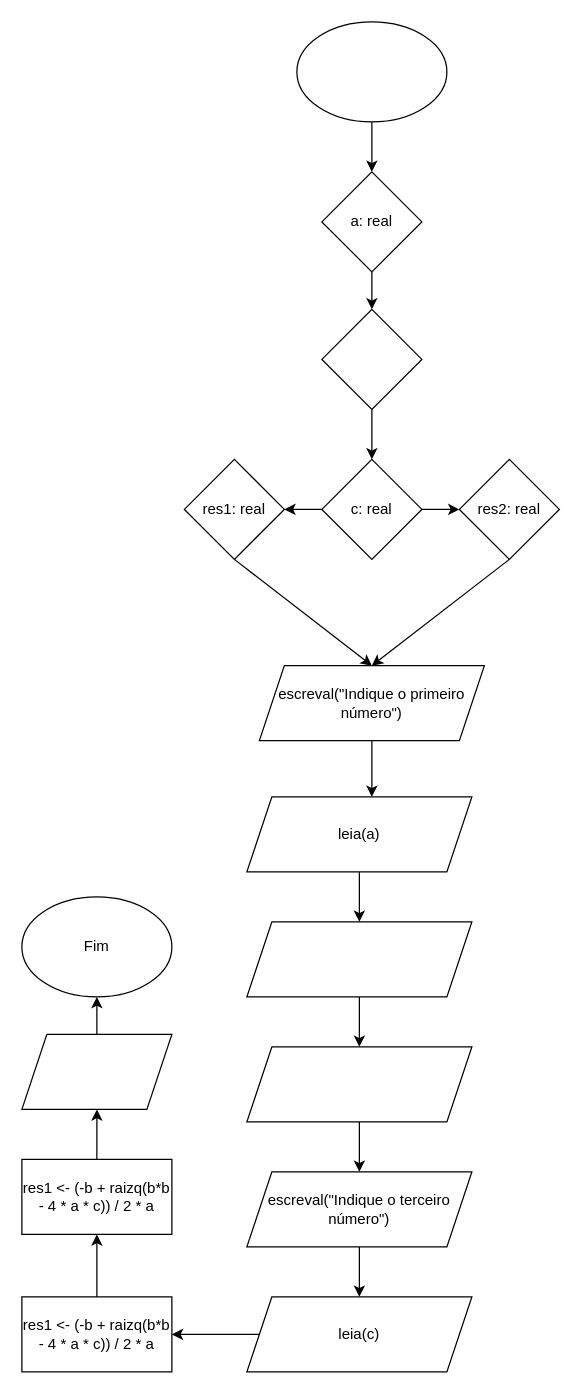
The diagram is 581 pixels wide and 1394 high, and some of its shapes have lost their labels. Here are the shapes that lost their labels. From the top down, the centre of each, then its label:
the point at 371,71: Inicio
the point at 371,358: b: real
the point at 359,959: escreval("Indique o segundo número")
the point at 96,1071: escreval("O Resultado é", res1:40:4, " ou", res2:40:4)
the point at 359,1084: leia(b)
